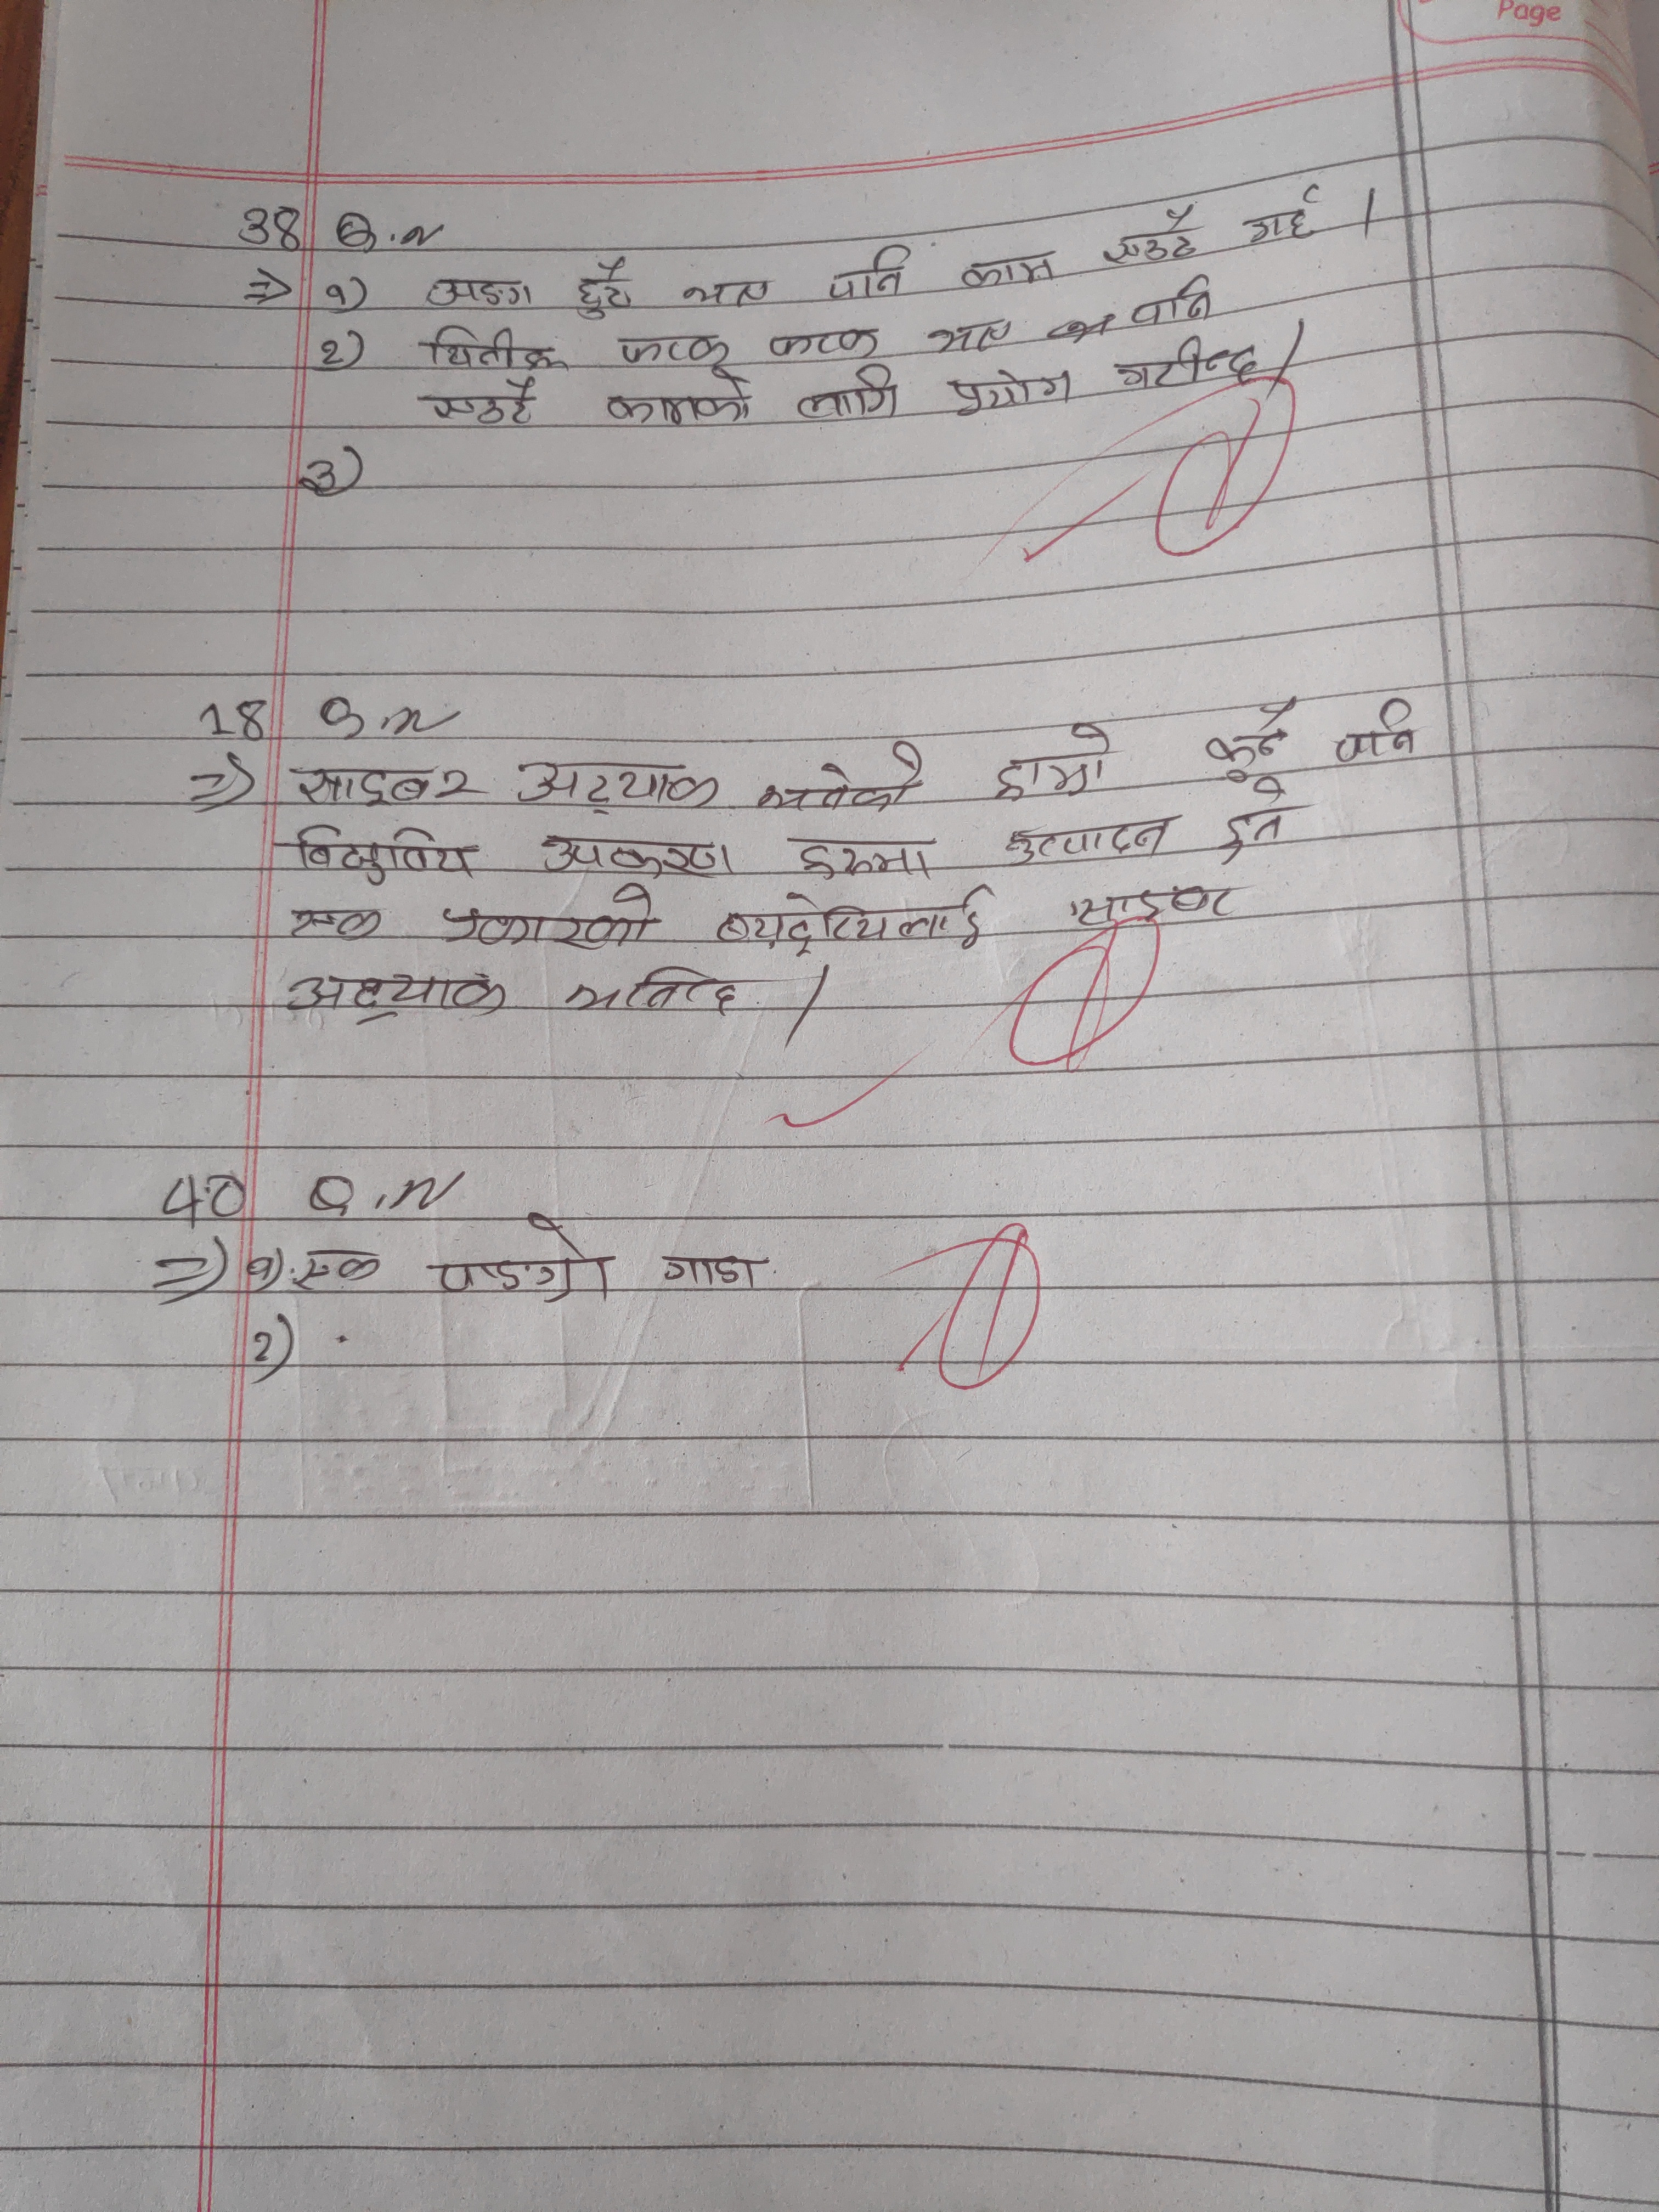text: (714, 885, 988, 953), (430, 1216, 617, 1305), (441, 883, 659, 956), (751, 745, 927, 820), (284, 822, 477, 890), (509, 747, 718, 810), (282, 970, 509, 1019), (535, 833, 735, 883), (563, 967, 751, 1019), (601, 371, 762, 430), (993, 721, 1114, 798), (995, 813, 1171, 864), (288, 758, 479, 803), (1073, 880, 1241, 930), (943, 361, 1080, 421), (782, 829, 939, 881), (420, 320, 563, 376), (1114, 340, 1263, 392), (1194, 700, 1293, 777), (1220, 775, 1293, 871), (420, 371, 540, 427), (1100, 202, 1199, 268), (793, 369, 910, 423), (819, 244, 929, 300), (1333, 697, 1420, 765), (277, 900, 390, 951), (1244, 186, 1331, 249), (653, 1249, 775, 1292), (762, 324, 885, 366), (610, 334, 746, 369), (420, 272, 538, 310), (573, 254, 640, 322), (955, 247, 1058, 291), (289, 1247, 382, 1292), (1129, 277, 1218, 324), (925, 310, 1011, 359), (683, 272, 777, 314)
